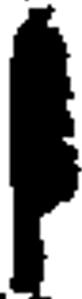Reed: (10, 8, 77, 299)
